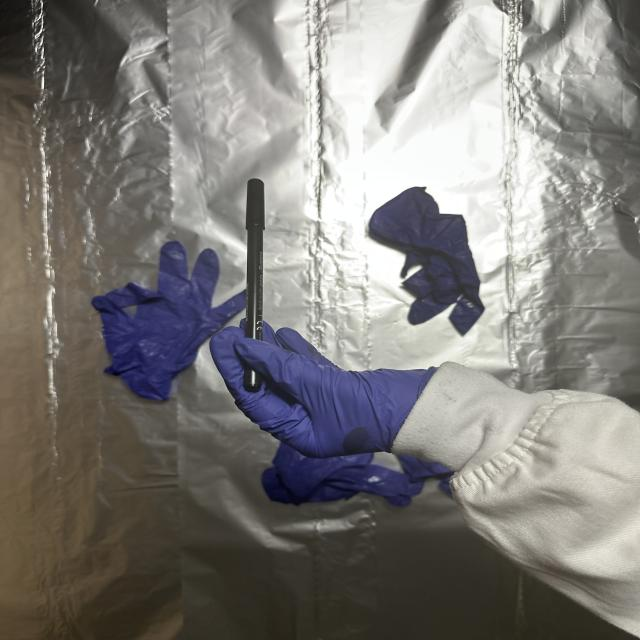gloves_contaminated: (210, 328, 435, 458)
